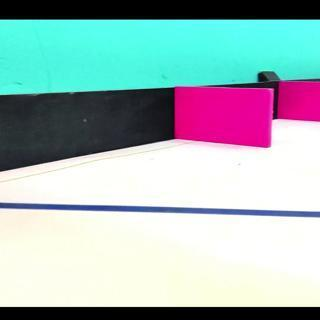xparking: (178, 96, 269, 146), (284, 88, 319, 120)
